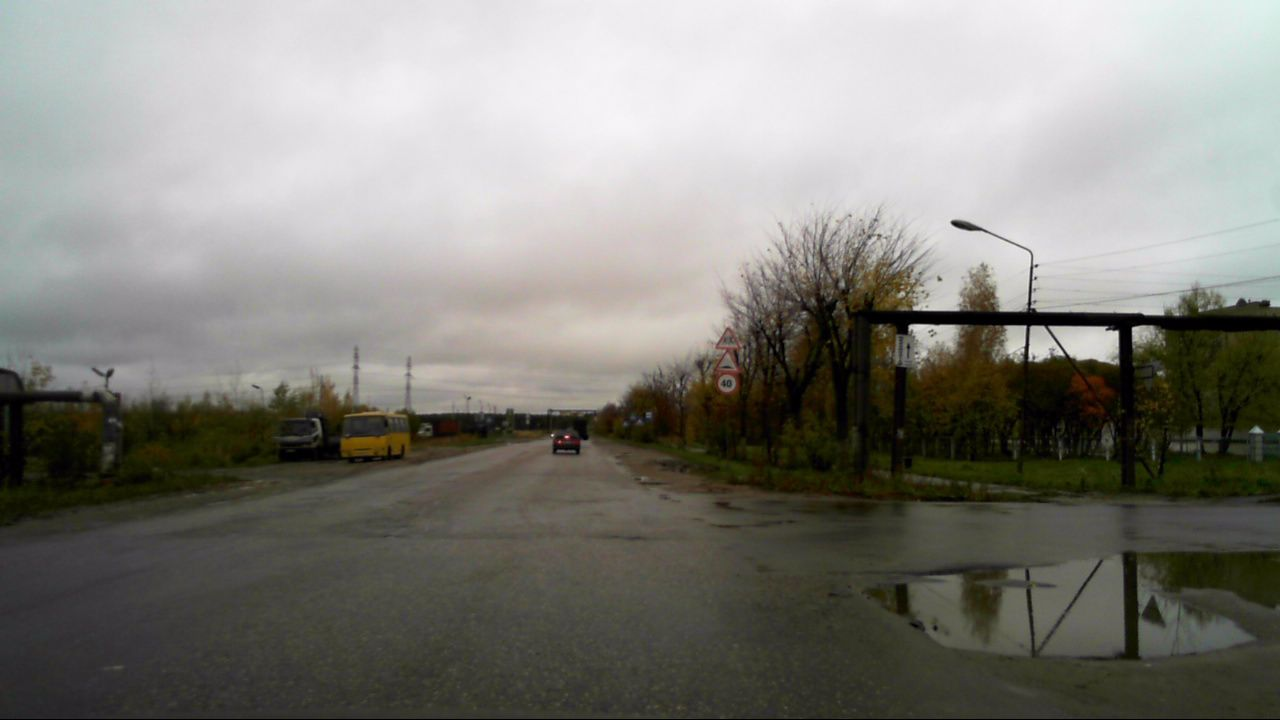speed_warning_40: (715, 372, 738, 395)
